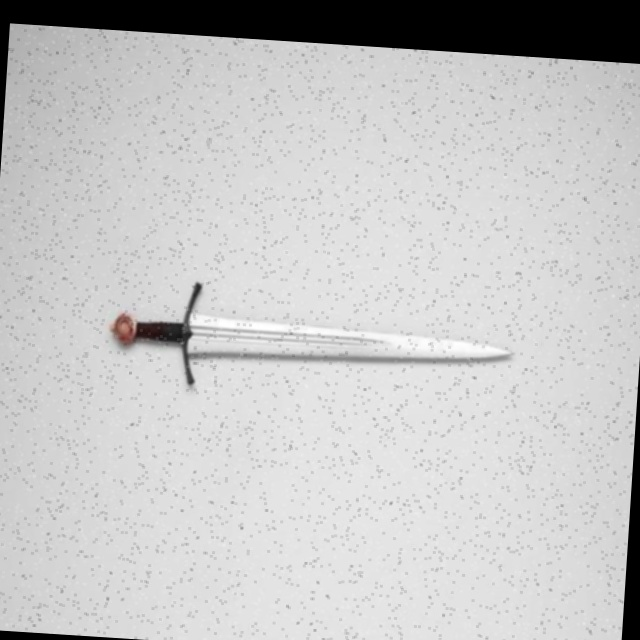Sharp-Object: (102, 303, 512, 381)
